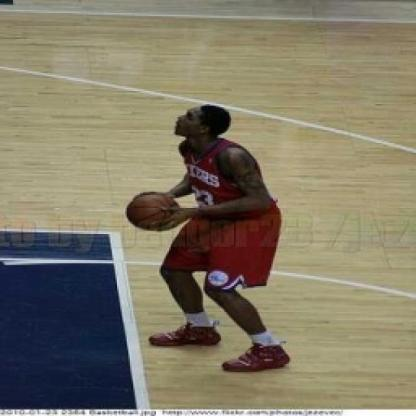basketball: (120, 187, 187, 235)
